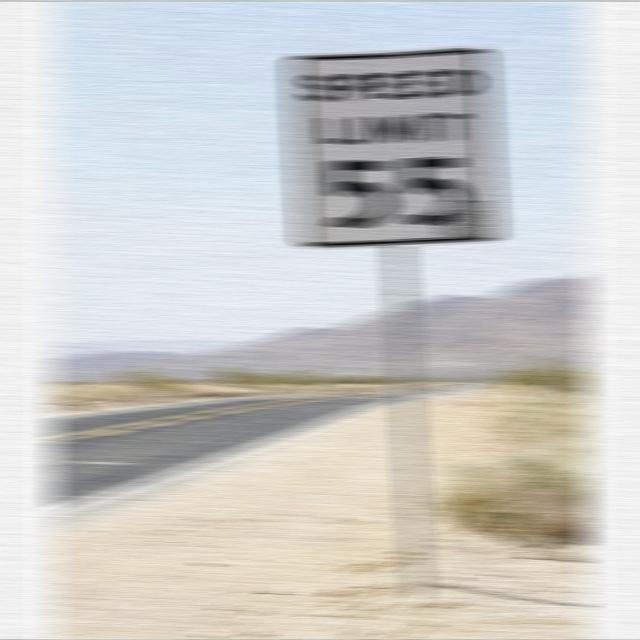speedLimit55: (285, 48, 502, 239)
